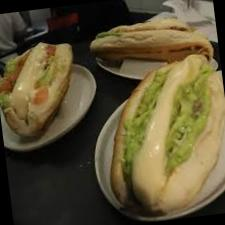Completos: (86, 57, 225, 211), (0, 32, 79, 153), (80, 4, 218, 68)
